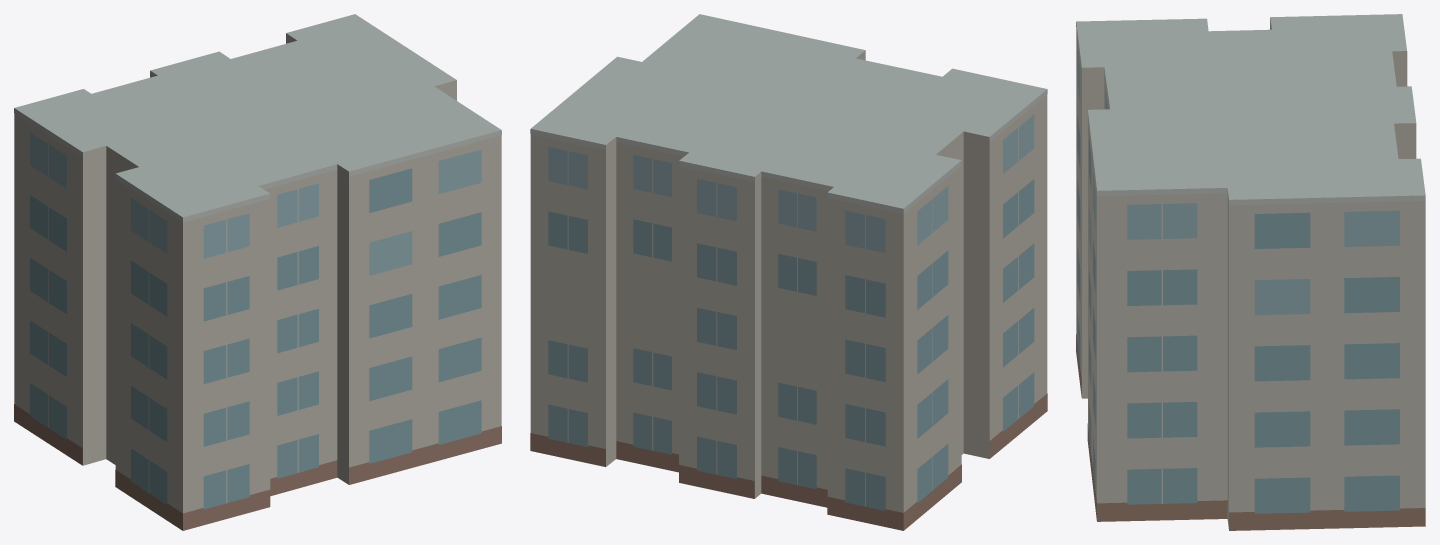
Rendered from survey-upis-32908125.glb.
The picture shows the model from 3 angles, left to right: view 1: azimuth 30°, elevation 25°; view 2: azimuth 150°, elevation 25°; view 3: azimuth 270°, elevation 25°; orthographic projection. The views are drawn at different scales.
Parts seen in each view (by area): view 1: survey-upis-32908125.tmp; view 2: survey-upis-32908125.tmp; view 3: survey-upis-32908125.tmp.
Boxes of the visible parts, bbox=[...] form: survey-upis-32908125.tmp: bbox=[14, 14, 501, 530]; survey-upis-32908125.tmp: bbox=[530, 14, 1047, 530]; survey-upis-32908125.tmp: bbox=[1076, 14, 1425, 530].
Bounding box in the file's own units: 17.71 × 14.7 × 14.07.
